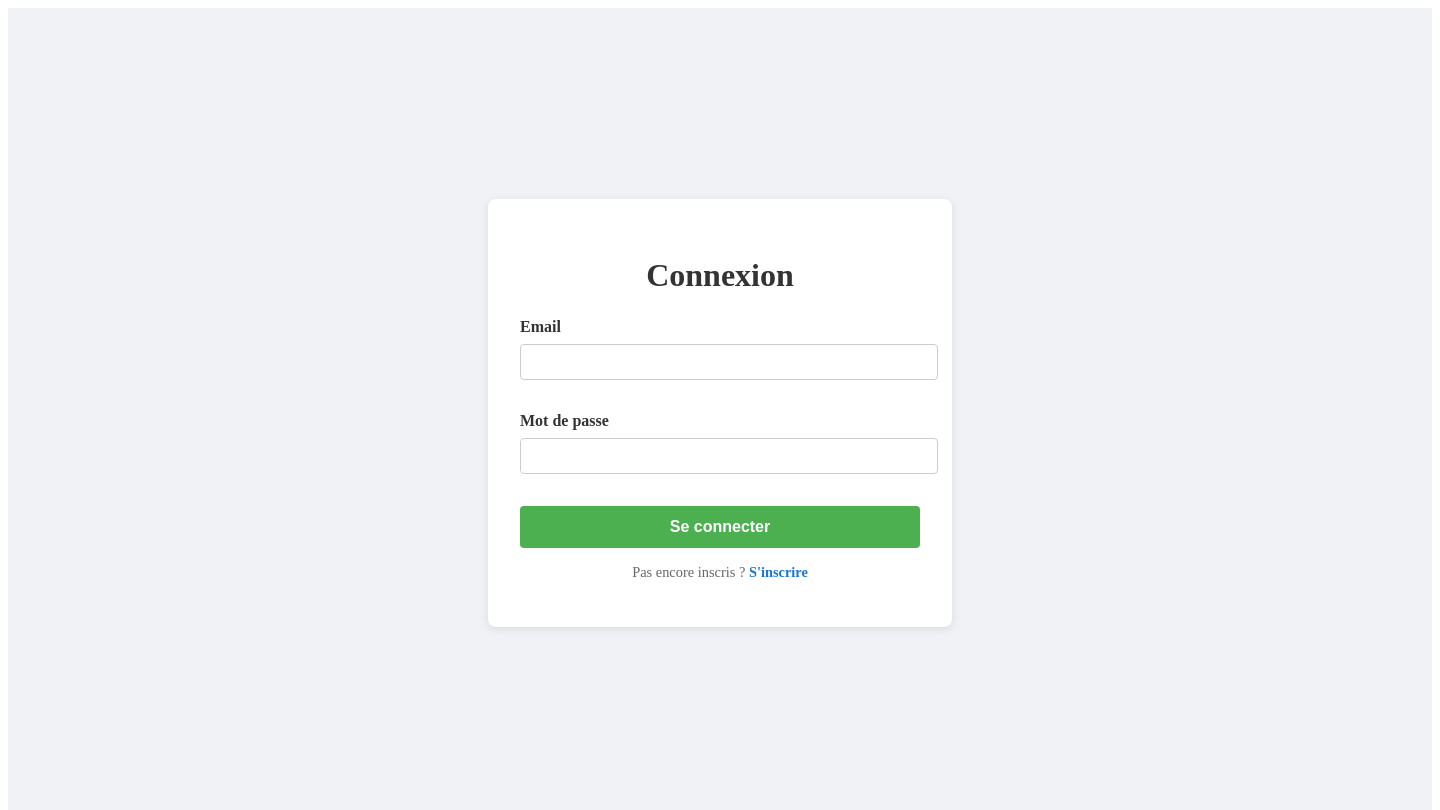
it: LoginPage › displays error message on failed login
The image size is (1440, 810).
on set les valeur a notre form
Type "test@example.com" into the field labelled "Email" at (729,362), box [520, 344, 938, 380]
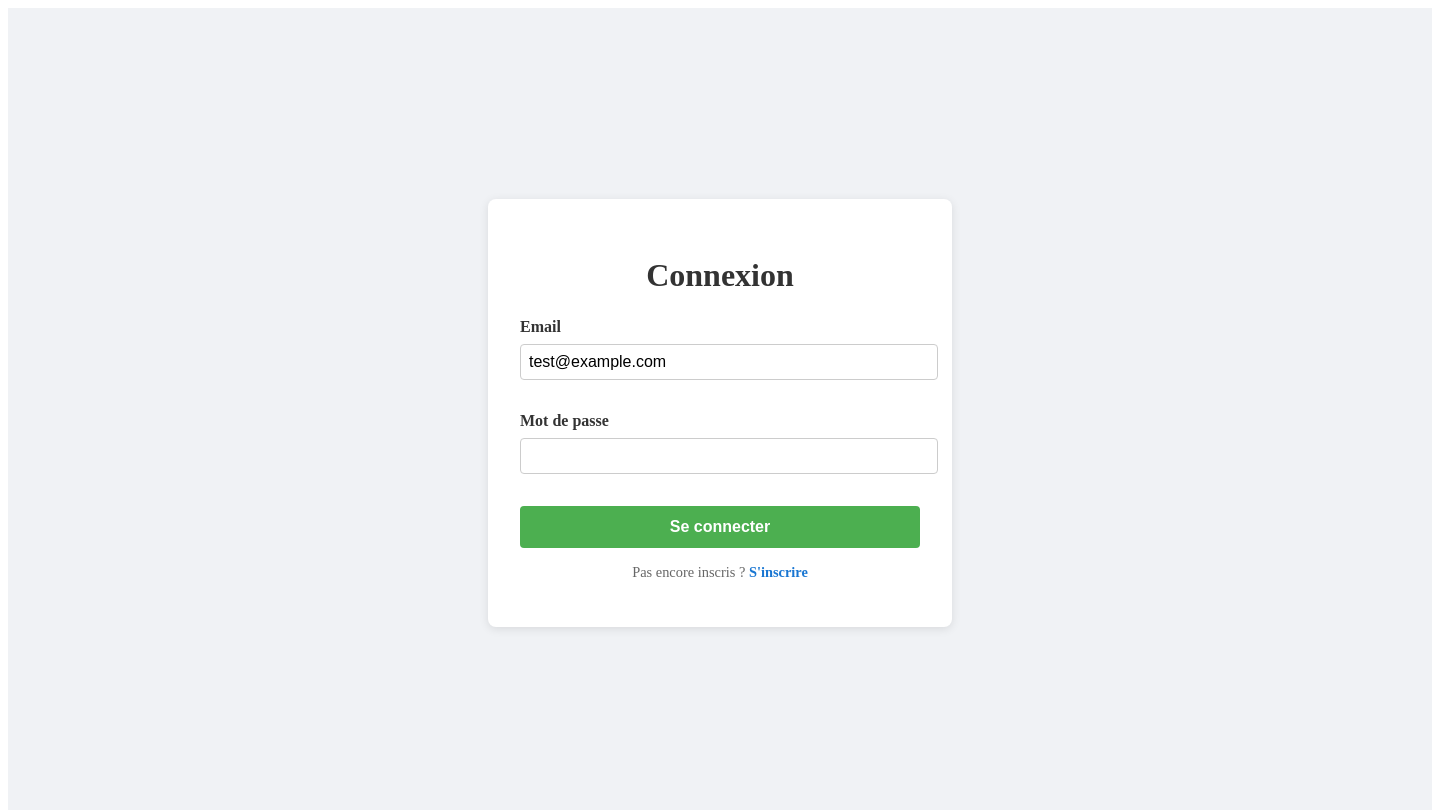
Type "wrongpassword" into the password field labelled "Mot de passe" at (729,456), box [520, 438, 938, 474]
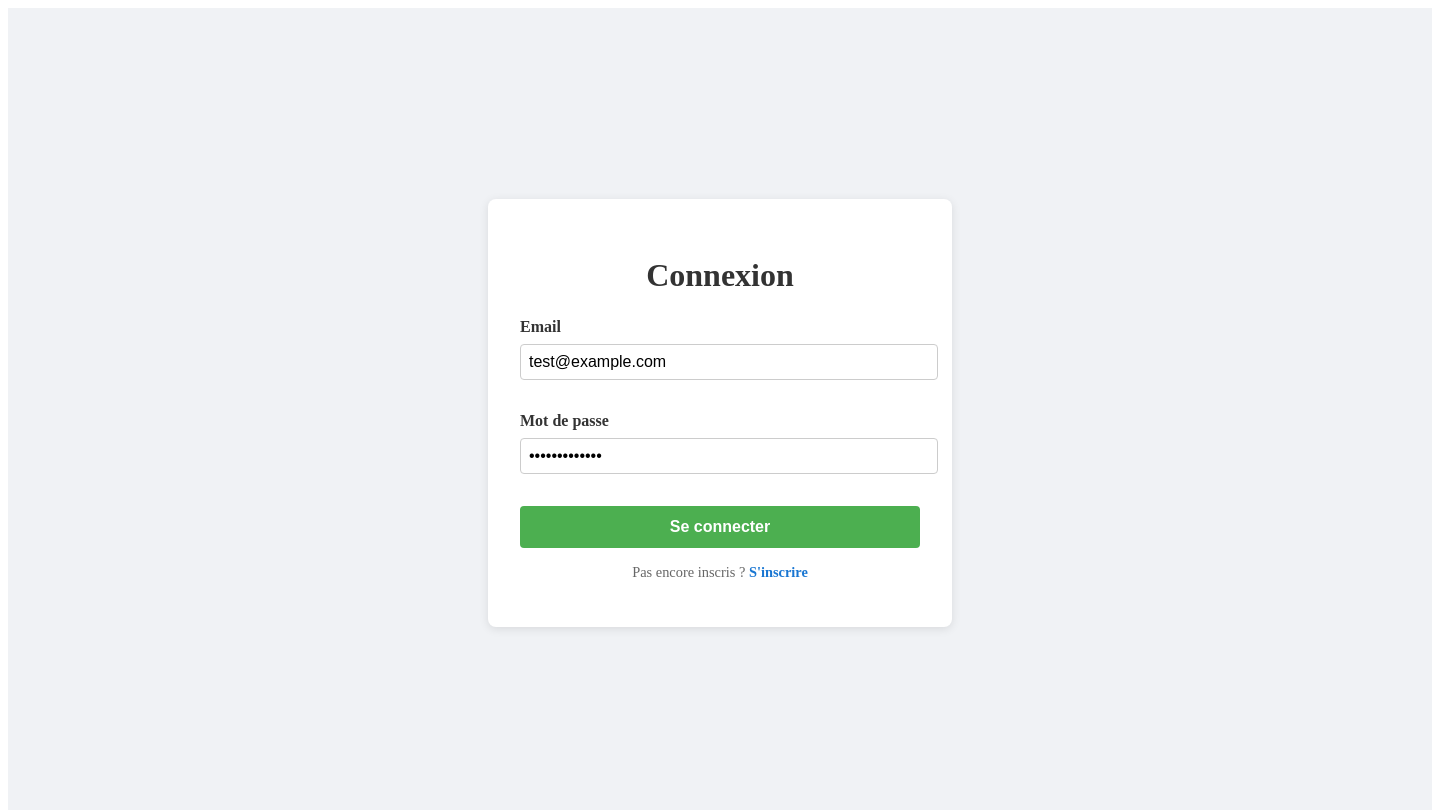
Click the button "Se connecter" at (720,527), box [520, 506, 920, 548]
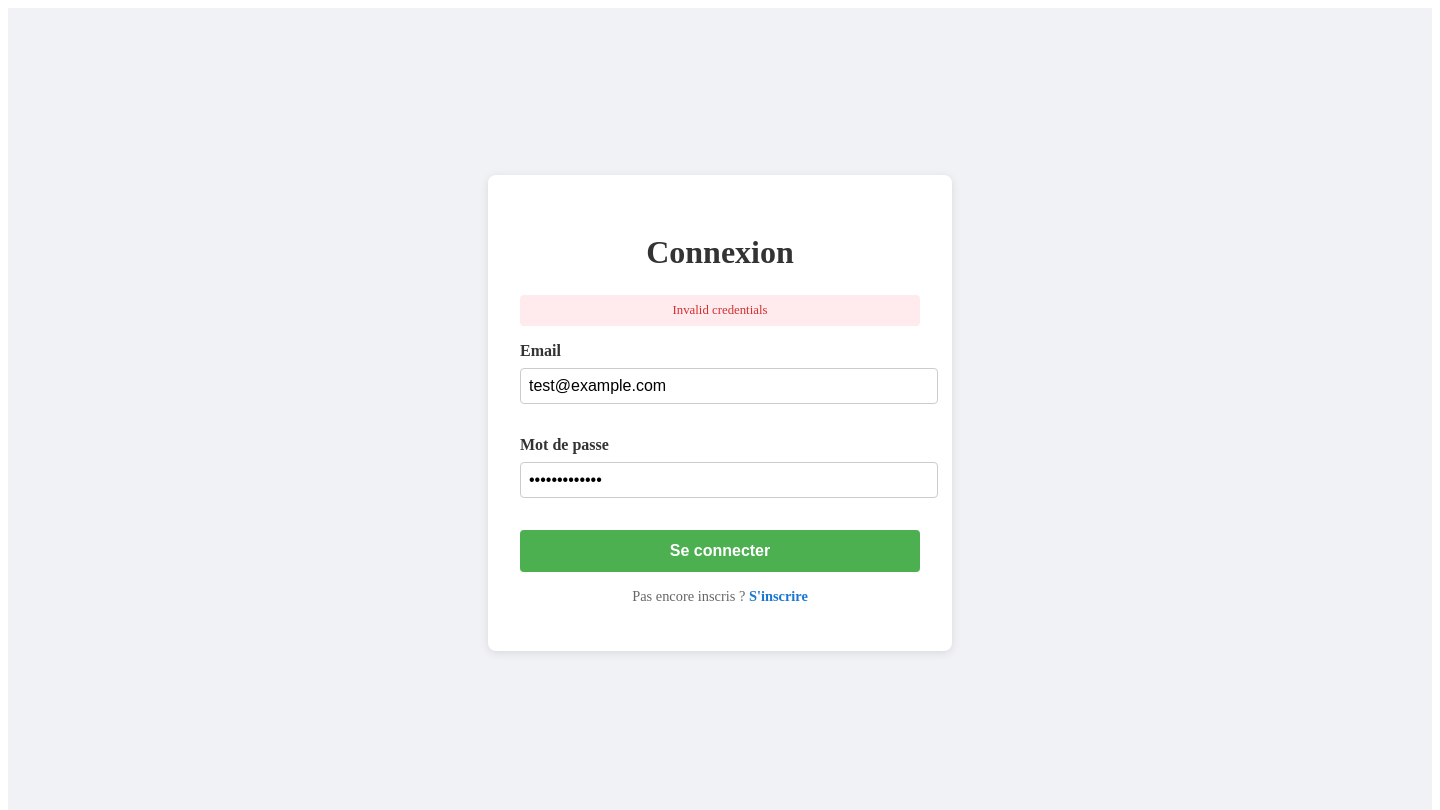
Result: the text "Invalid credentials" is shown at [520, 295, 920, 326]
